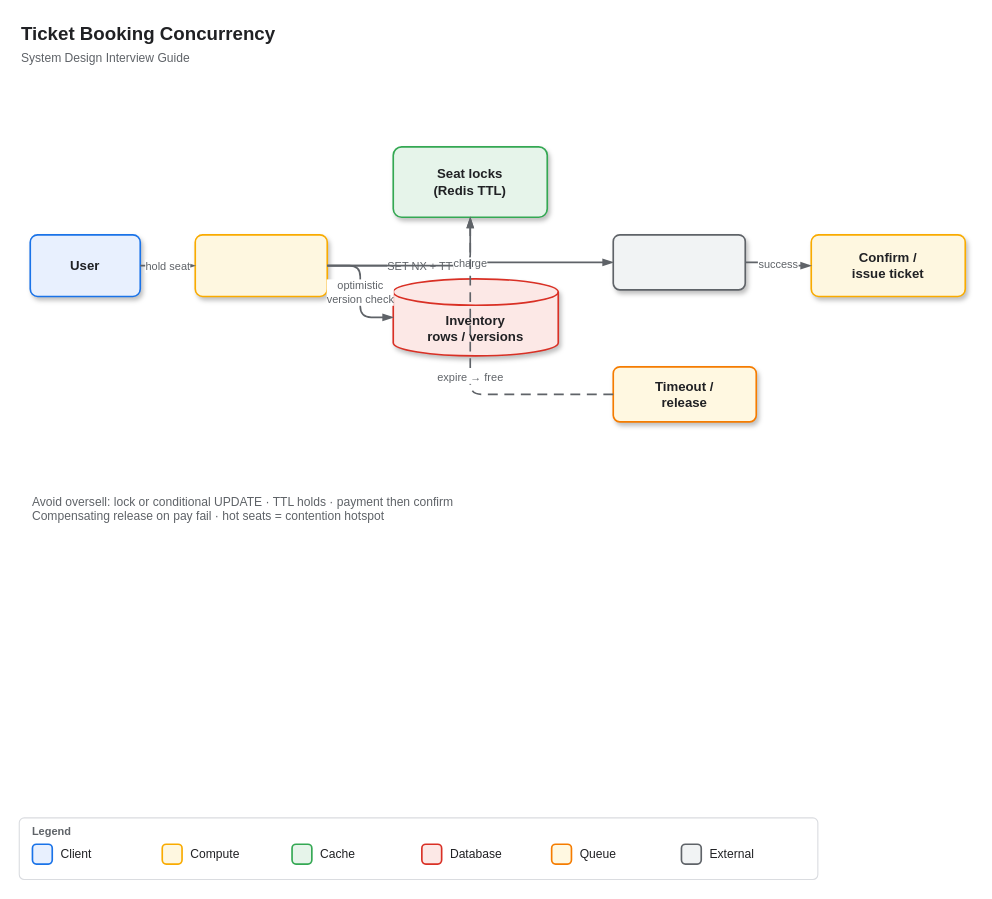
Some shapes in this 992 by 899 pixel diagram are drawn without their labels. Each missing label, with the centre of its shape:
Booking API: pixel 262 266
Payments: pixel 680 263
